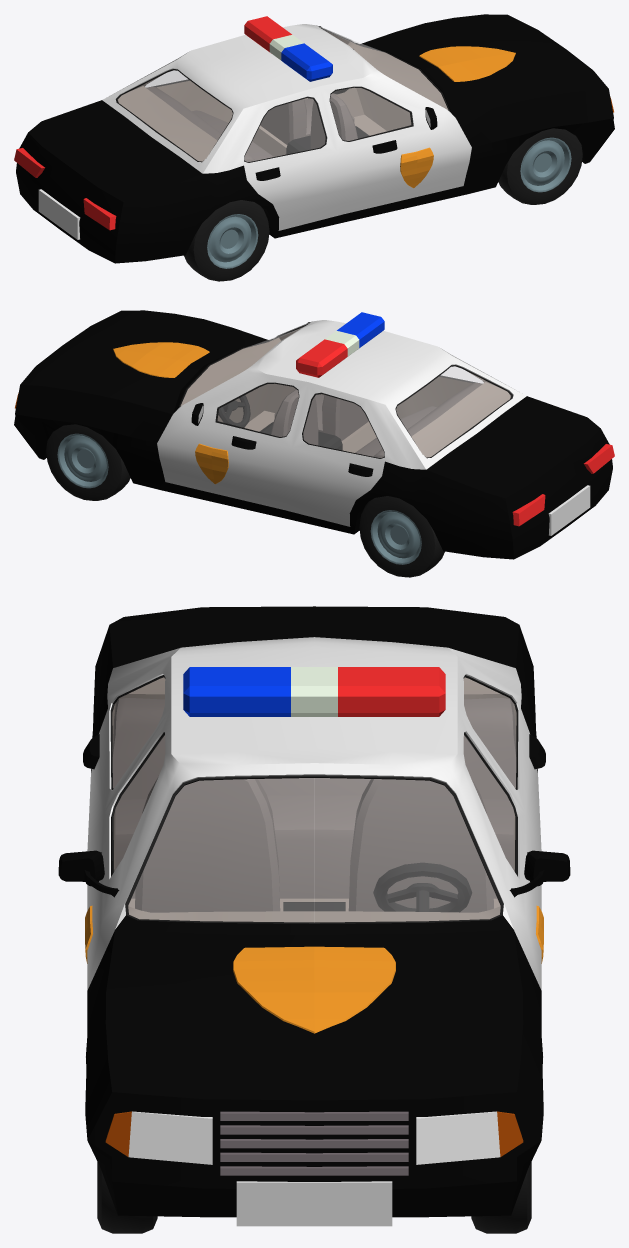
The model's file is car.glb.
The picture shows the model from 3 angles, top to bottom: view 1: azimuth 30°, elevation 25°; view 2: azimuth 150°, elevation 25°; view 3: azimuth 270°, elevation 25°; orthographic projection. The views are drawn at different scales.
Visible parts, largest first — view 1: Transport6; view 2: Transport6; view 3: Transport6.
Boxes of the visible parts, x1,y1,x2,y2 form: Transport6: (14, 14, 614, 281); Transport6: (14, 310, 614, 577); Transport6: (58, 606, 570, 1233).
Size of what is drawn, in the model's own units: 3.04 by 0.988 by 1.31.
Materials: 2 (2 with a texture image).
